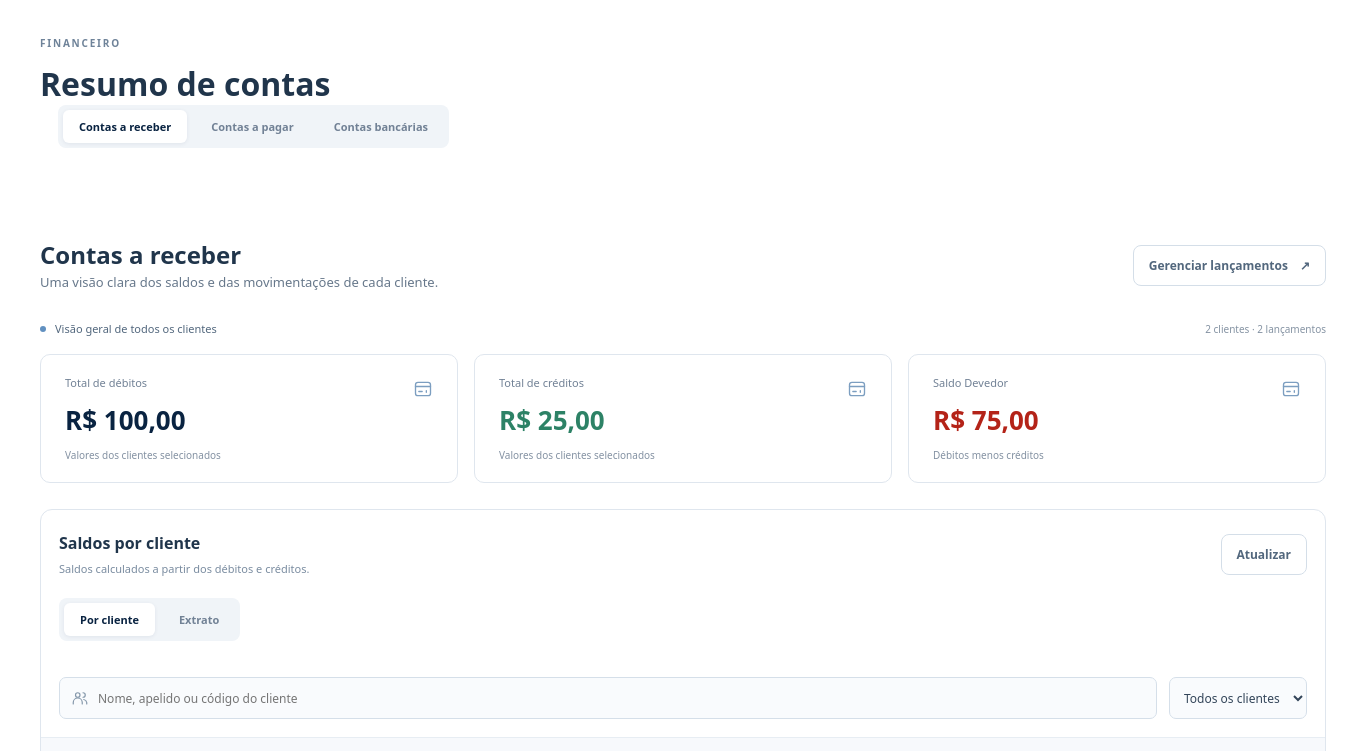
Test: account summary › filters by nickname and opens a customer statement newest first
Type "Alpha" into the field named "Buscar clientes no resumo". click: (608, 698)
box: [59,677,1157,719]
(page scrolled)
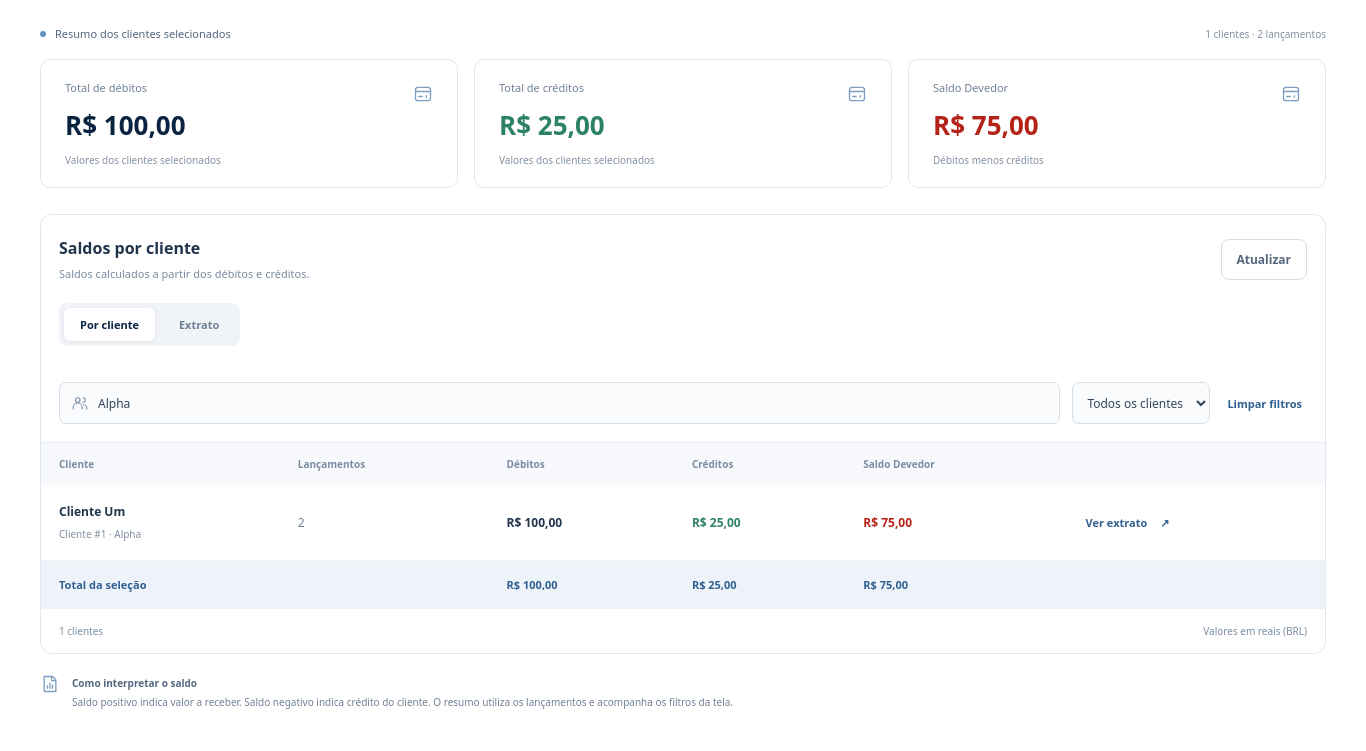
Click the button with aria-label "Ver extrato de Cliente Um". click: (1128, 523)
box: [1081,510,1174,535]
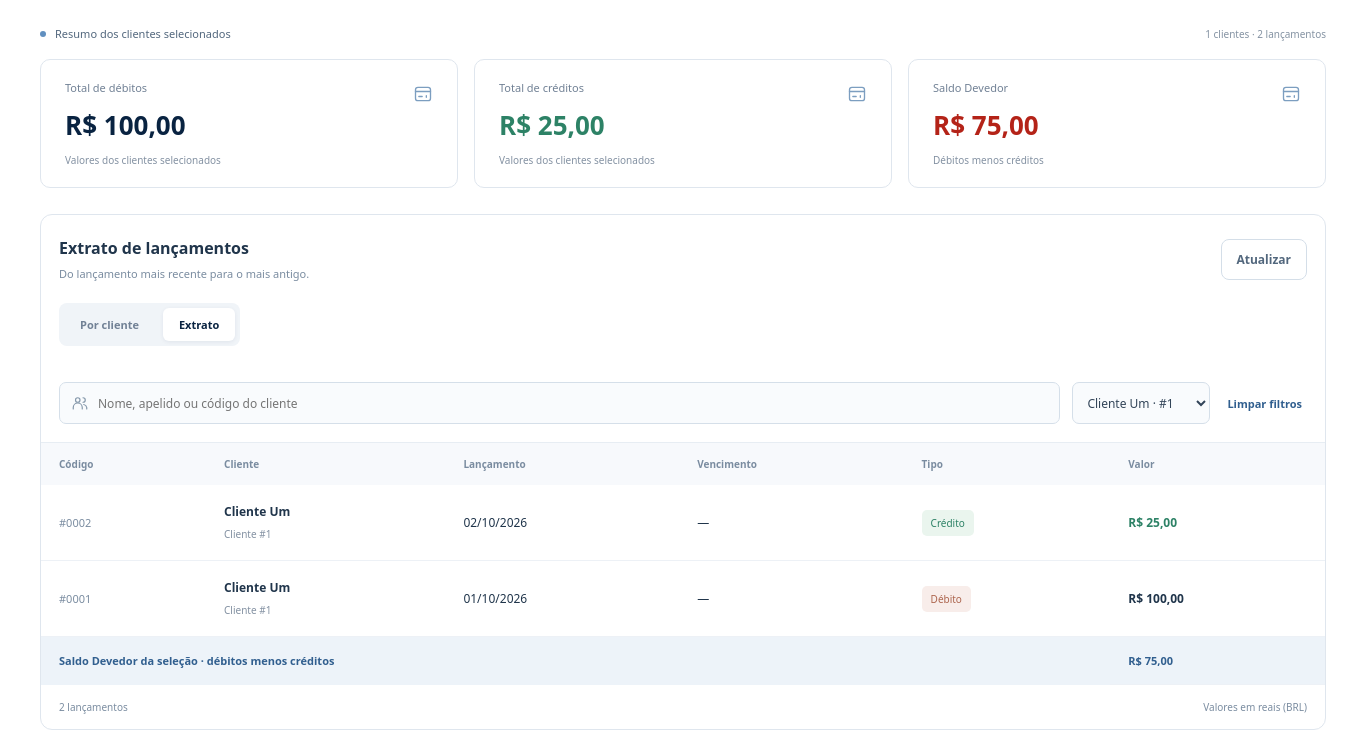
Check: the dropdown named "Selecionar cliente" shows "Cliente Um · #1", box [1072,382,1210,424]
Check: the row "#0002 Cliente Um Cliente #1 02/10/2026 — Crédito R$ 25,00" is shown, box [41,485,1325,561]
Check: the row "#0001 Cliente Um Cliente #1 01/10/2026 — Débito R$ 100,00" is shown, box [41,561,1325,637]
